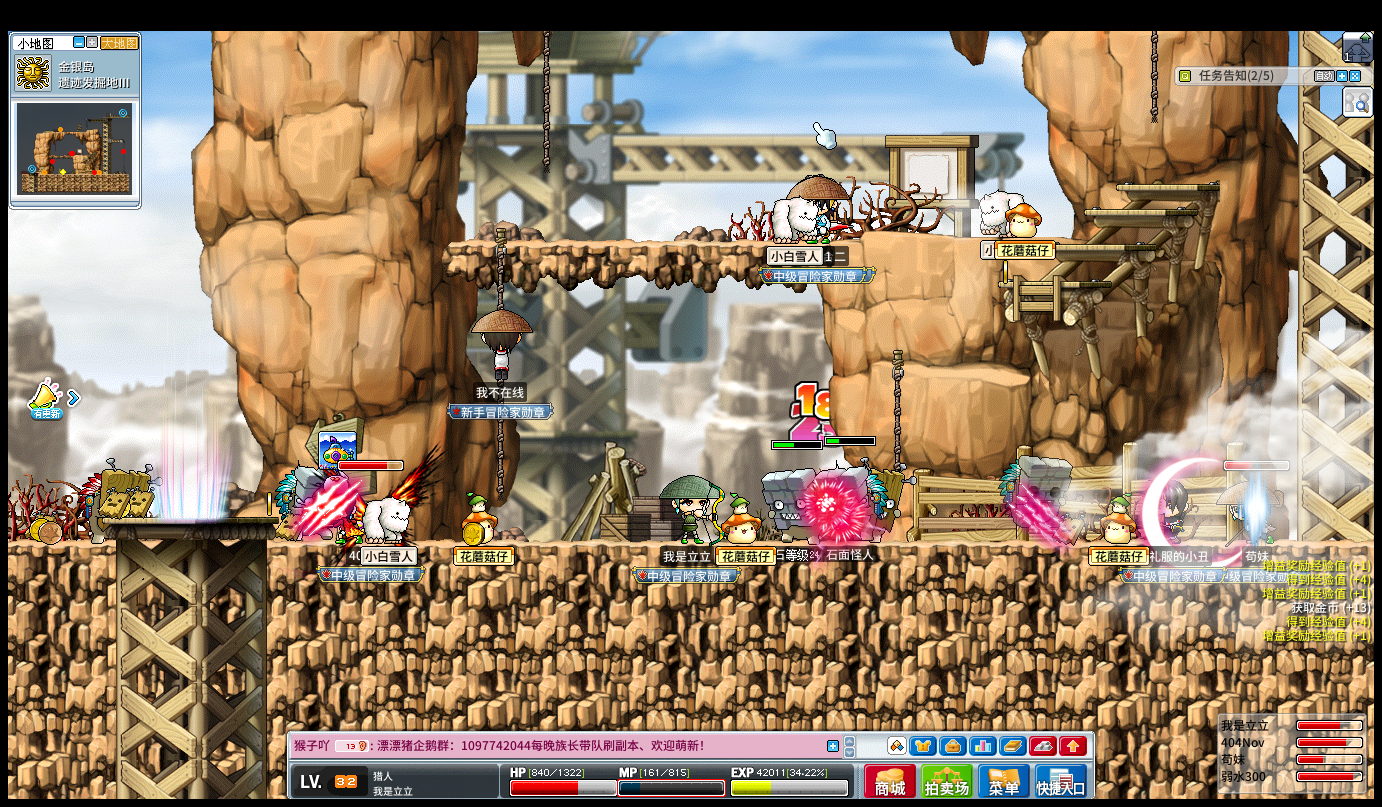floor: (444, 238, 822, 248), (922, 364, 1030, 384), (100, 517, 275, 525), (102, 515, 275, 523), (940, 233, 1080, 242), (1080, 205, 1196, 215), (7, 539, 112, 550), (995, 281, 1109, 291), (1078, 207, 1191, 215), (996, 280, 1109, 288), (1045, 243, 1156, 251), (1115, 184, 1218, 191)
monster: (998, 455, 1071, 538), (828, 463, 891, 541), (80, 460, 159, 521), (760, 468, 808, 540), (274, 468, 320, 538)
rope: (891, 351, 906, 473), (889, 350, 903, 473), (542, 29, 550, 174), (493, 227, 506, 310), (492, 419, 503, 503), (495, 419, 505, 504), (1148, 29, 1156, 120)
